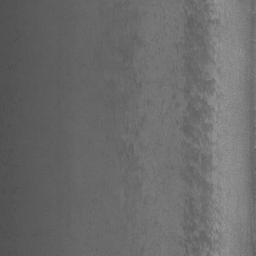Silk spot: (179, 164, 221, 256), (180, 50, 215, 145), (174, 0, 220, 64), (181, 141, 215, 173), (118, 143, 139, 165), (120, 49, 133, 70), (132, 32, 146, 47), (129, 74, 142, 88)
